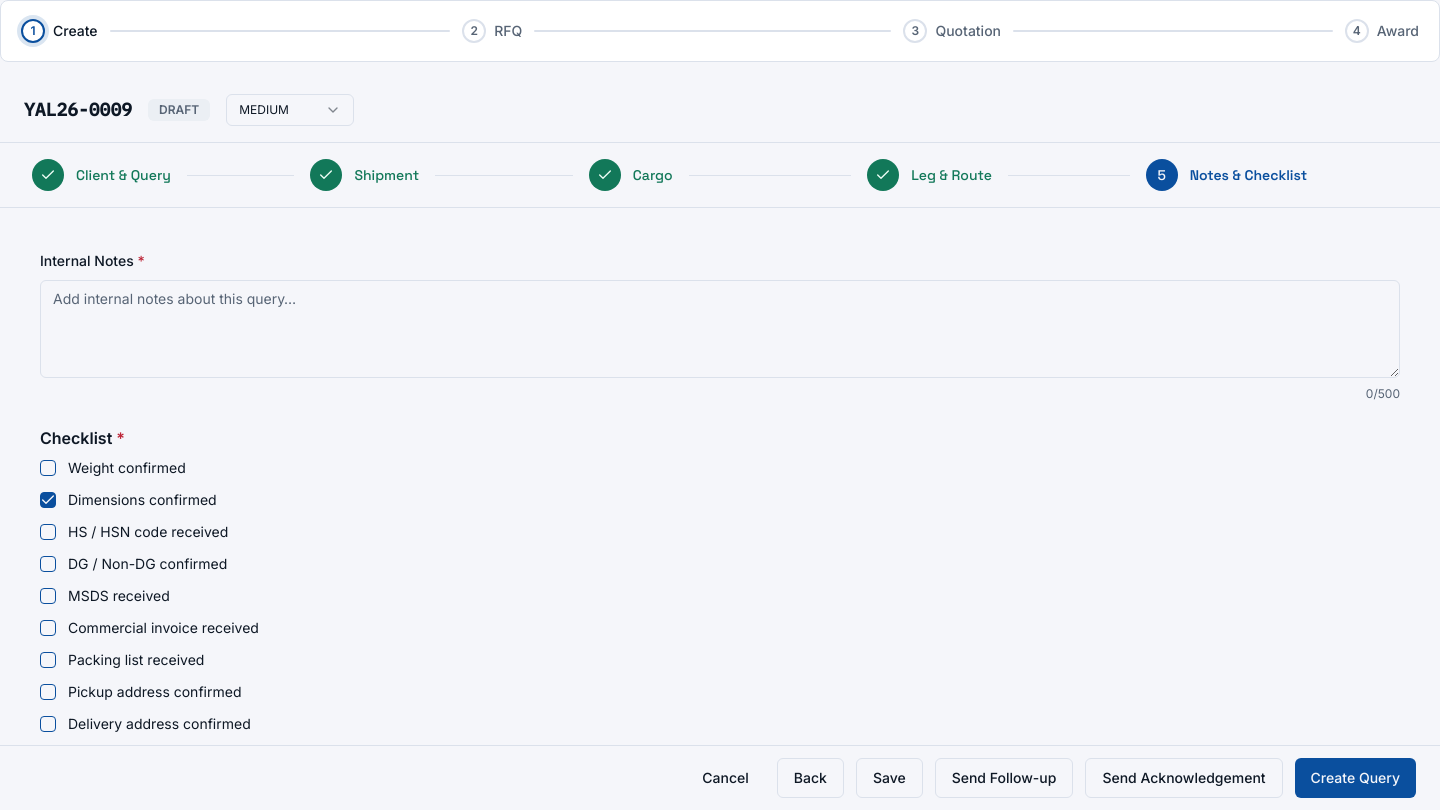
Test: QueryWizardPage › Create Query blocks with a validation summary when the checklist is incomplete
The image size is (1440, 810).
Step 1. Click the button "Create Query" → (1355, 778), box [1295,758,1416,798]
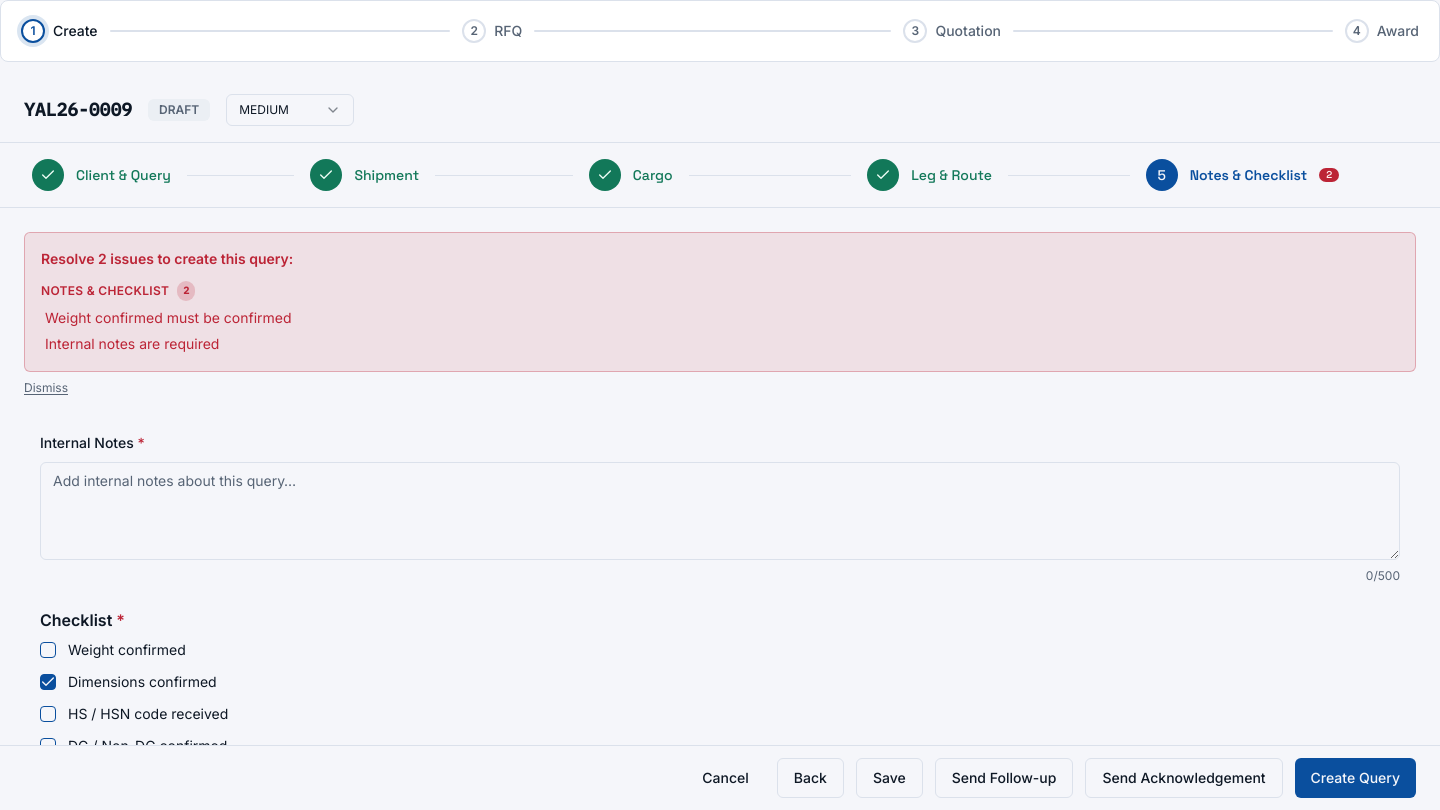
Result: the text "Resolve 2 issues to create this query:" is shown at [41,250,293,267]
Result: the button "Weight confirmed must be confirmed" is shown at [45,308,292,328]
